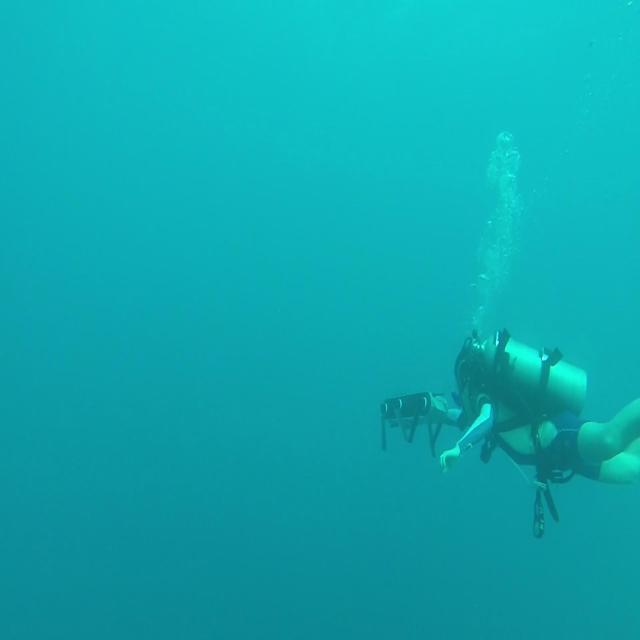human: (441, 326, 639, 538)
